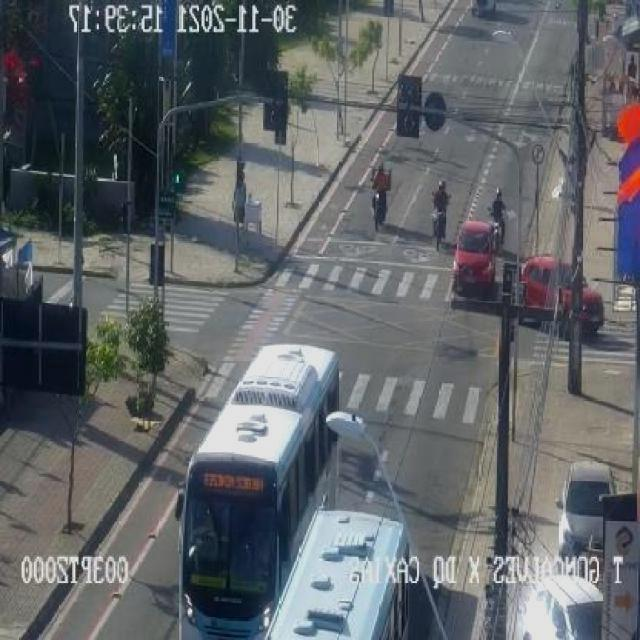Bus: (173, 344, 340, 640), (259, 507, 408, 640)
Car: (554, 461, 621, 564), (522, 254, 604, 337), (518, 571, 603, 640), (449, 220, 496, 296)
Cycle: (430, 192, 454, 250), (370, 171, 391, 232)
